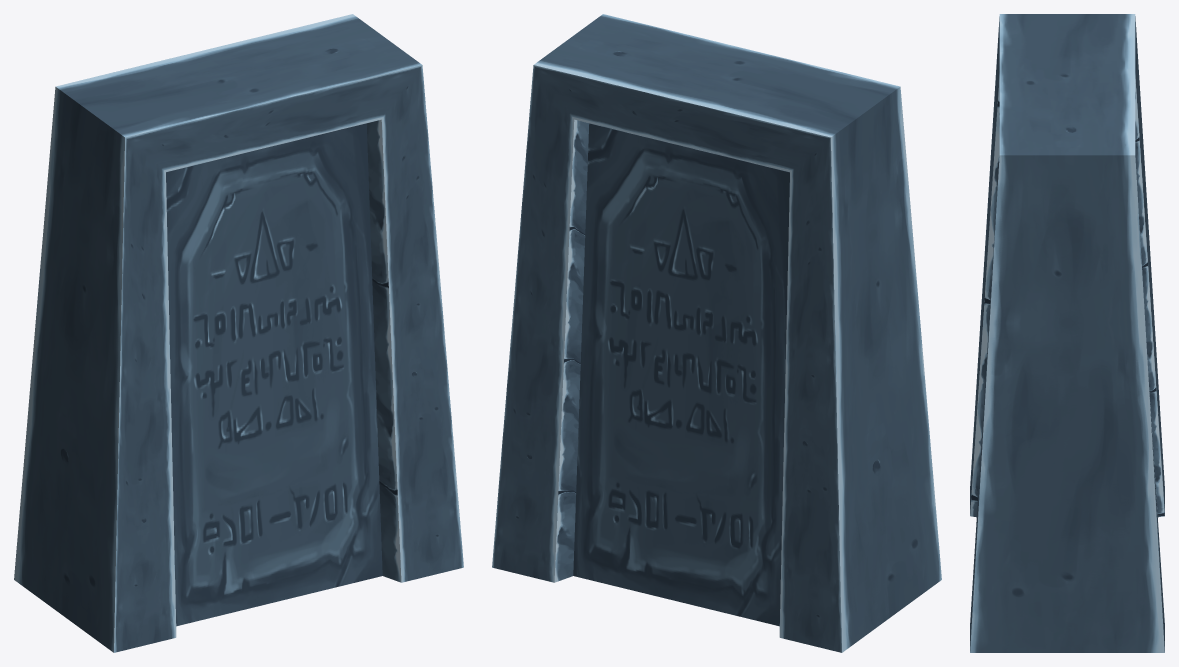
Rendered from SM_PROP_gravestone_v05_02.fbx.
3 views of the same model, side by side, from view 1: azimuth 30°, elevation 25°; view 2: azimuth 150°, elevation 25°; view 3: azimuth 270°, elevation 25° (orthographic). The views are drawn at different scales.
Parts seen in each view (by area): view 1: SM_PROP_gravestone_v05_02; view 2: SM_PROP_gravestone_v05_02; view 3: SM_PROP_gravestone_v05_02.
Part boxes in pixels (<box>): SM_PROP_gravestone_v05_02: <box>14,14,463,652</box>; SM_PROP_gravestone_v05_02: <box>492,14,941,652</box>; SM_PROP_gravestone_v05_02: <box>970,14,1164,652</box>.
Bounding box in the file's own units: 79.76 × 108 × 39.45.
